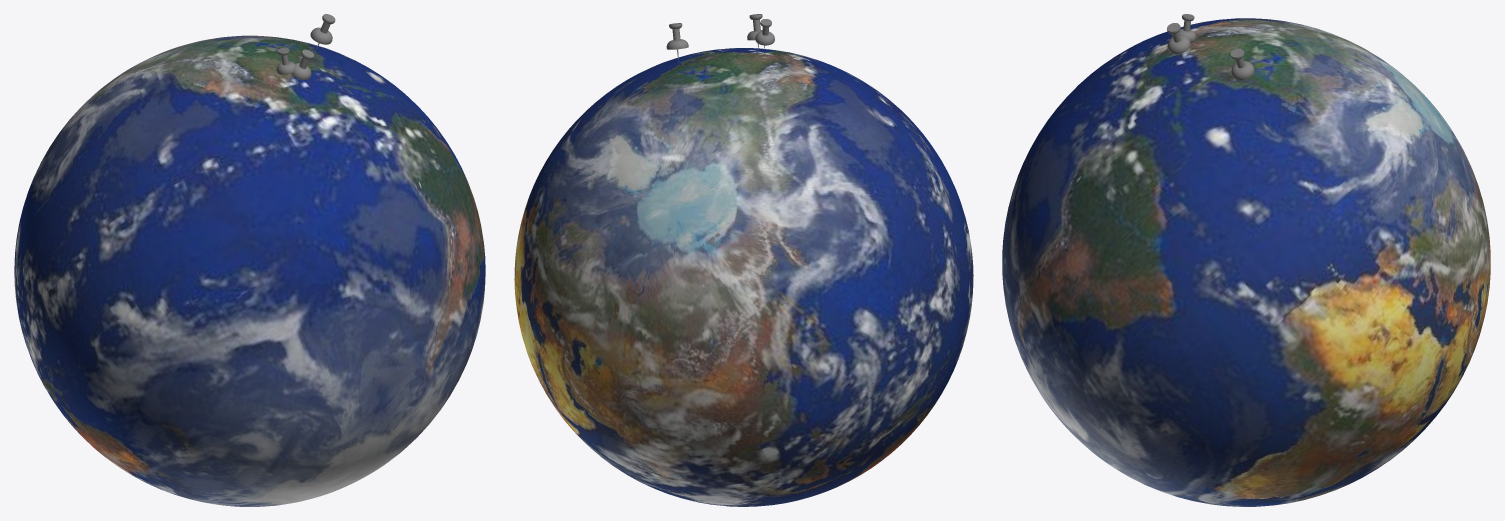
File: globe.gltf
3 views of the same model, side by side, from view 1: azimuth 30°, elevation 25°; view 2: azimuth 150°, elevation 25°; view 3: azimuth 270°, elevation 25° (orthographic). The views are drawn at different scales.
Parts seen in each view (by area): view 1: Sphere01; view 2: Sphere01; view 3: Sphere01.
Part boxes in pixels (<box>): Sphere01: <box>14,35,485,506</box>; Sphere01: <box>514,48,973,506</box>; Sphere01: <box>1002,18,1490,506</box>.
Bounding box in the file's own units: 2.85 × 3.04 × 2.85.
3 materials, 2 textured.
